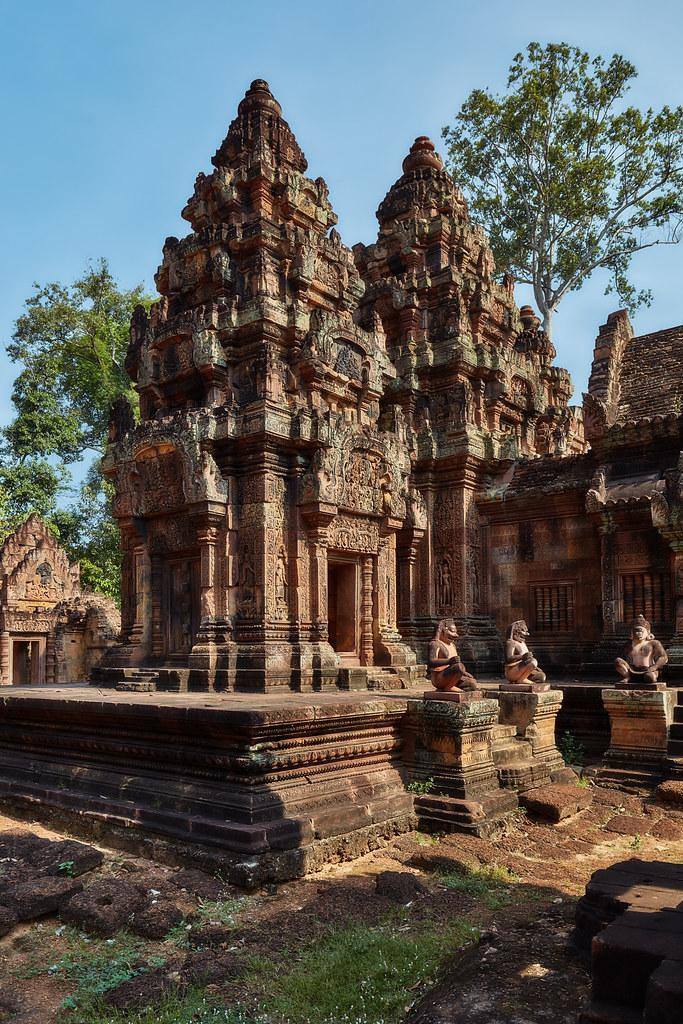temple: (92, 77, 681, 693)
